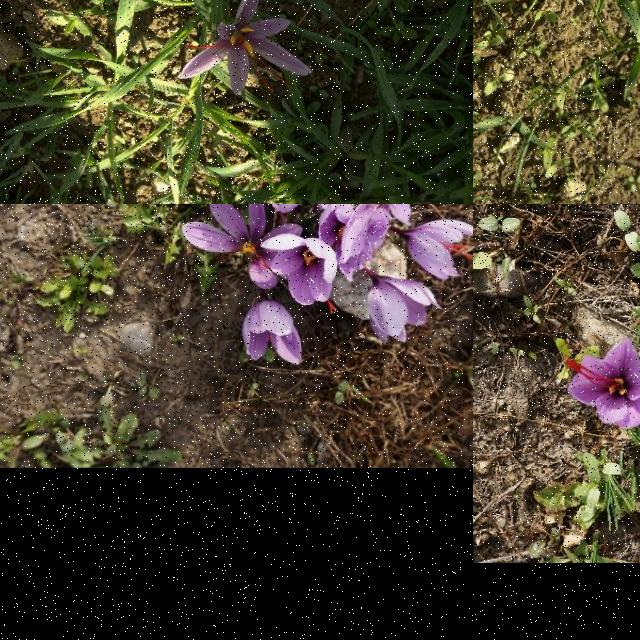flower: (176, 0, 311, 95), (182, 204, 303, 291), (565, 336, 640, 430), (260, 235, 340, 315), (306, 204, 411, 264), (366, 274, 446, 346), (404, 218, 473, 282), (242, 298, 306, 364)
overlap: (183, 204, 413, 316)
